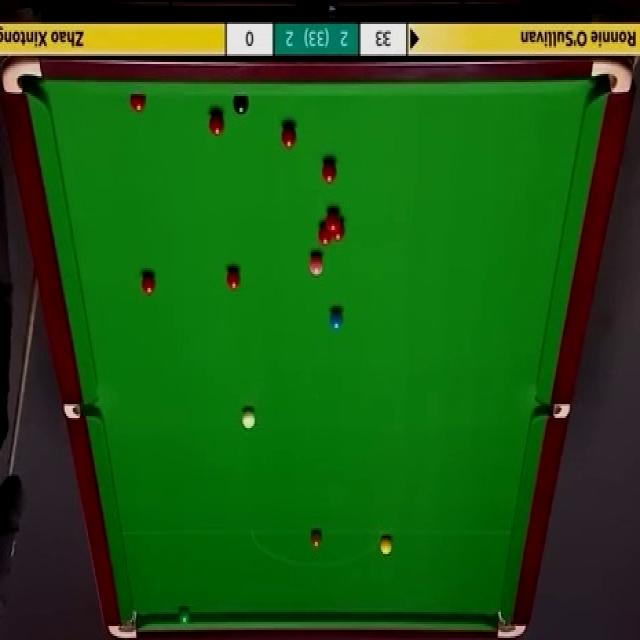pocket: (2, 57, 45, 97), (591, 60, 634, 97), (106, 606, 140, 640), (495, 611, 528, 638), (64, 402, 100, 422), (537, 404, 571, 422)
